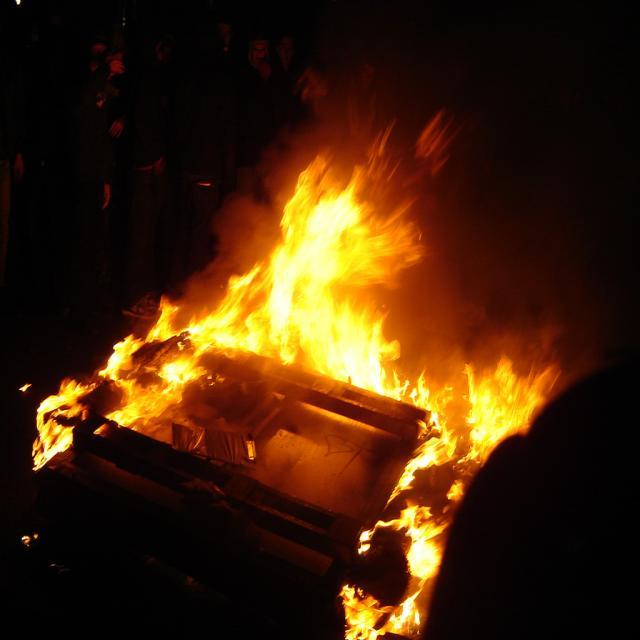Fire: (277, 180, 428, 372), (130, 282, 274, 392), (451, 355, 515, 442)
